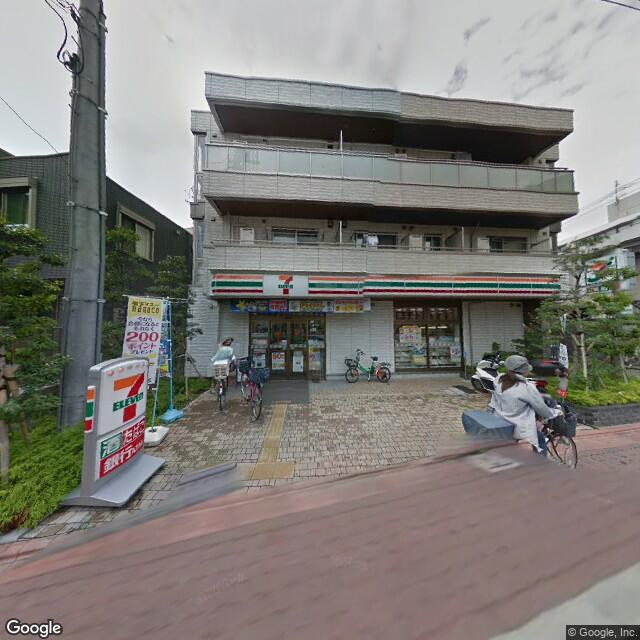7-eleven: (209, 269, 566, 302), (84, 362, 146, 455), (582, 254, 617, 289)
